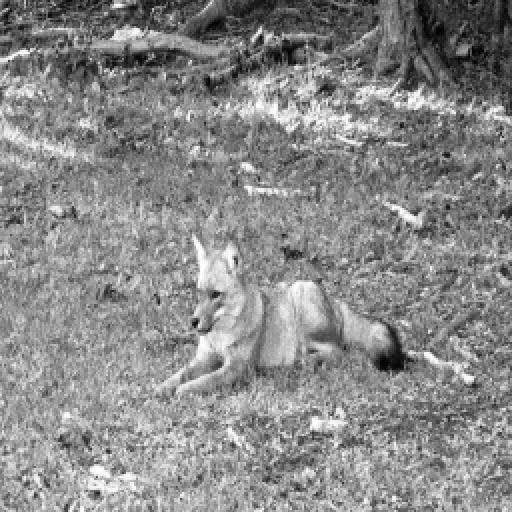zorro: (158, 234, 404, 396)
